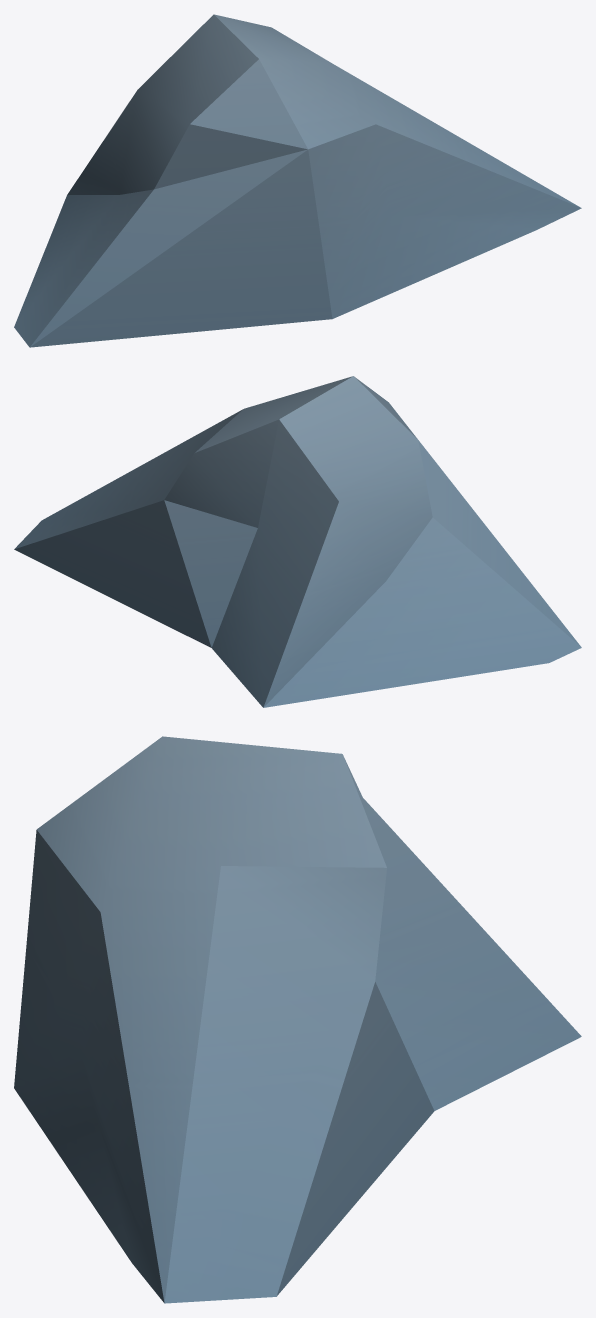
File: Rock_01D.glb
3 views of the same model, one above another, from view 1: azimuth 30°, elevation 25°; view 2: azimuth 150°, elevation 25°; view 3: azimuth 270°, elevation 25° (orthographic). The views are drawn at different scales.
Parts seen in each view (by area): view 1: Rock_01D; view 2: Rock_01D; view 3: Rock_01D.
Part boxes in pixels (left/top/right/bottom): Rock_01D: left=14, top=14, right=581, bottom=347; Rock_01D: left=14, top=376, right=581, bottom=707; Rock_01D: left=14, top=736, right=581, bottom=1303.
Size of the model in its own units: 2.22 by 0.87 by 1.34.
Materials: 1 (1 with a texture image).
